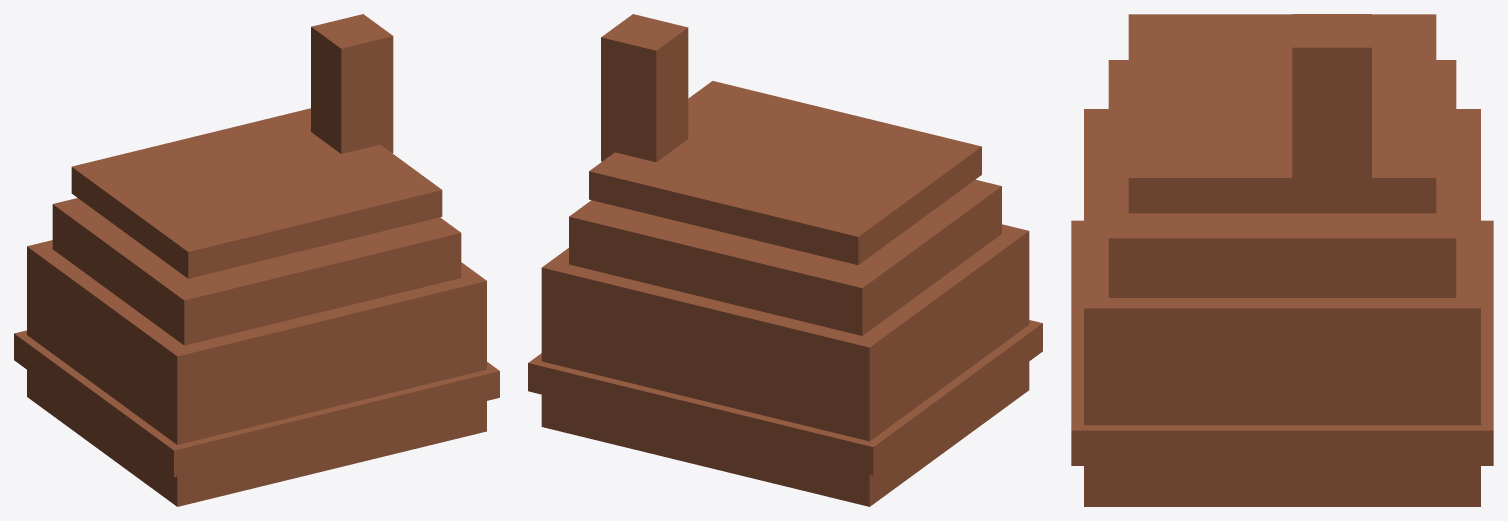
File: braiser.glb
3 views of the same model, side by side, from view 1: azimuth 30°, elevation 25°; view 2: azimuth 150°, elevation 25°; view 3: azimuth 270°, elevation 25° (orthographic). The views are drawn at different scales.
Visible parts, largest first — view 1: module.braiser; view 2: module.braiser; view 3: module.braiser.
Part boxes in pixels (x1,y1,x2,y2): module.braiser: (14, 14, 499, 506); module.braiser: (528, 14, 1042, 506); module.braiser: (1071, 14, 1493, 506).
Bounding box in the file's own units: 1 × 1 × 0.85.
